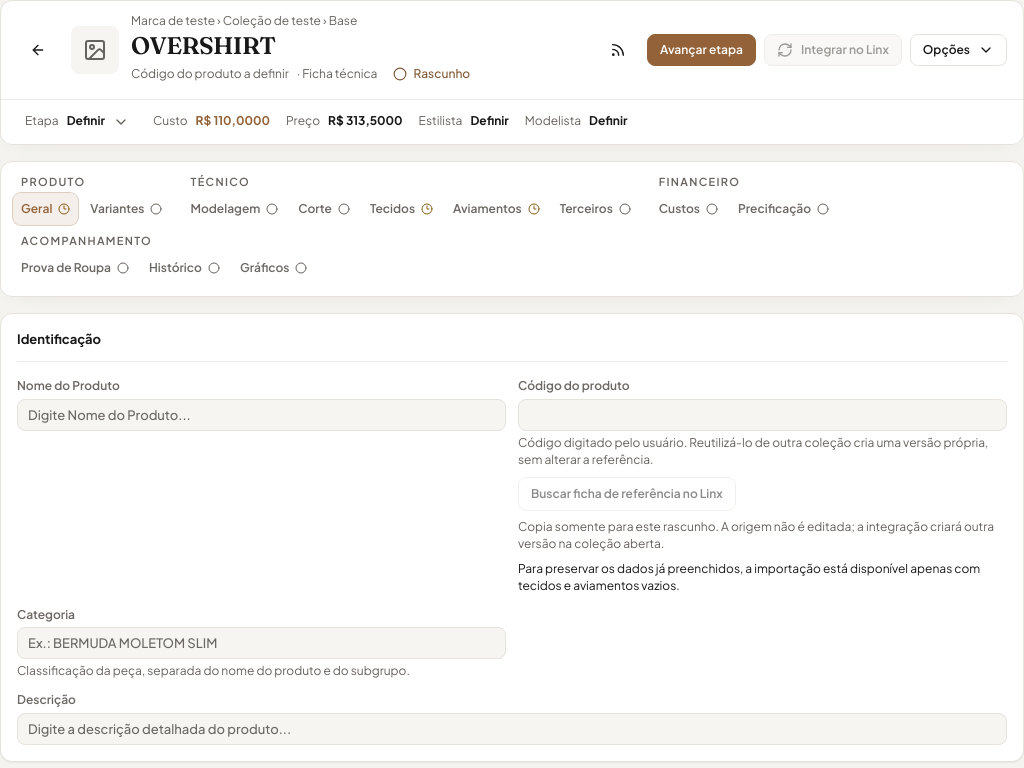
Test: Alterações pendentes para o Linx › abre a movimentação pelo resumo Etapa e detecta o avanço automático
This screenshot has width=1024, height=768.
Click the button with aria-label "Entregar / alterar etapa" at (77, 122), box x1=17 y1=106 x2=137 y2=138
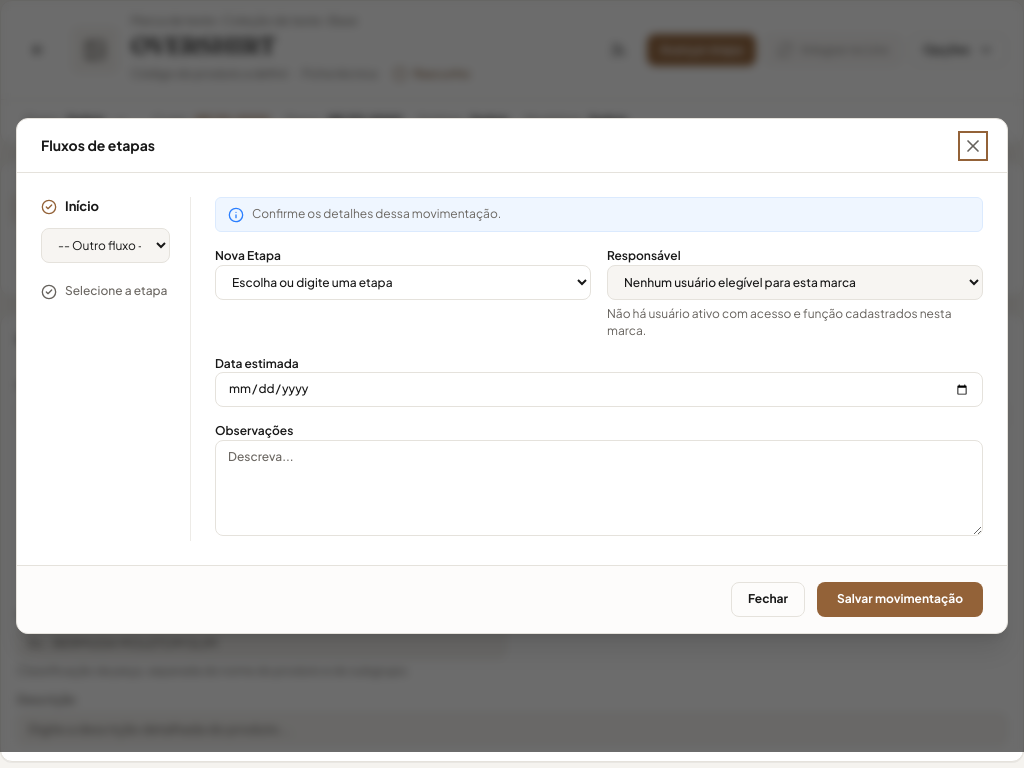
expect the dialog "Fluxos de etapas" is shown: met
expect the dropdown labelled "Nova Etapa" is shown: met, box x1=215 y1=265 x2=591 y2=300
Click the button "Fechar" at (768, 599), box x1=731 y1=582 x2=805 y2=617
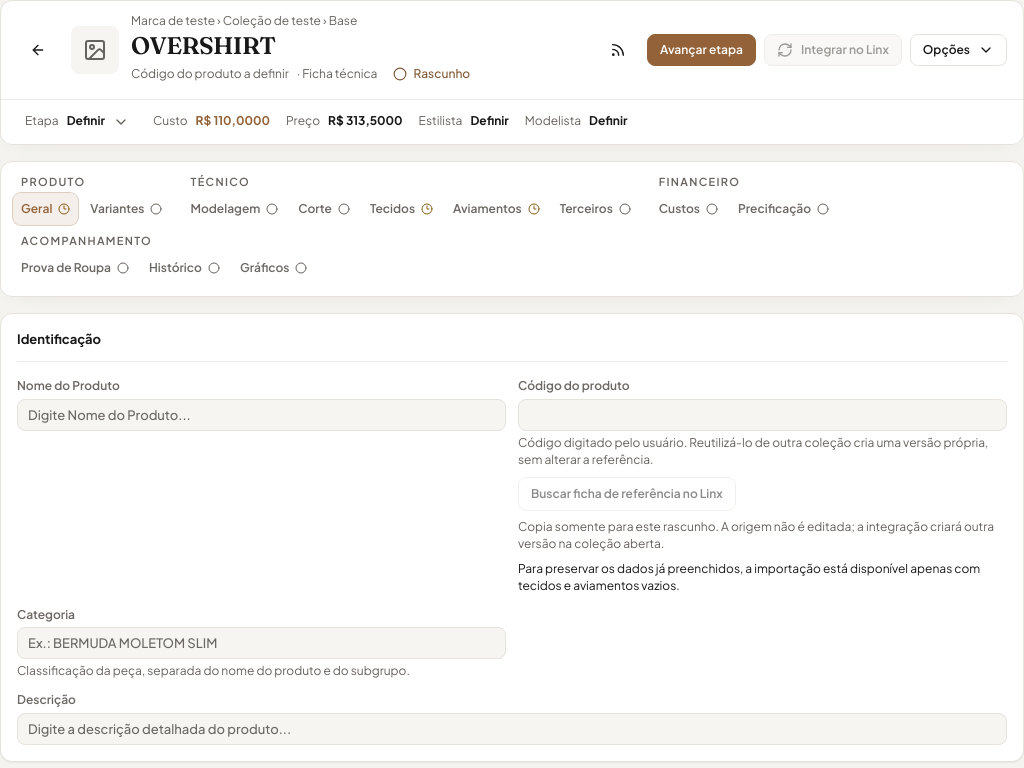
Click the button "Avançar etapa" at (702, 50), box x1=647 y1=34 x2=756 y2=66
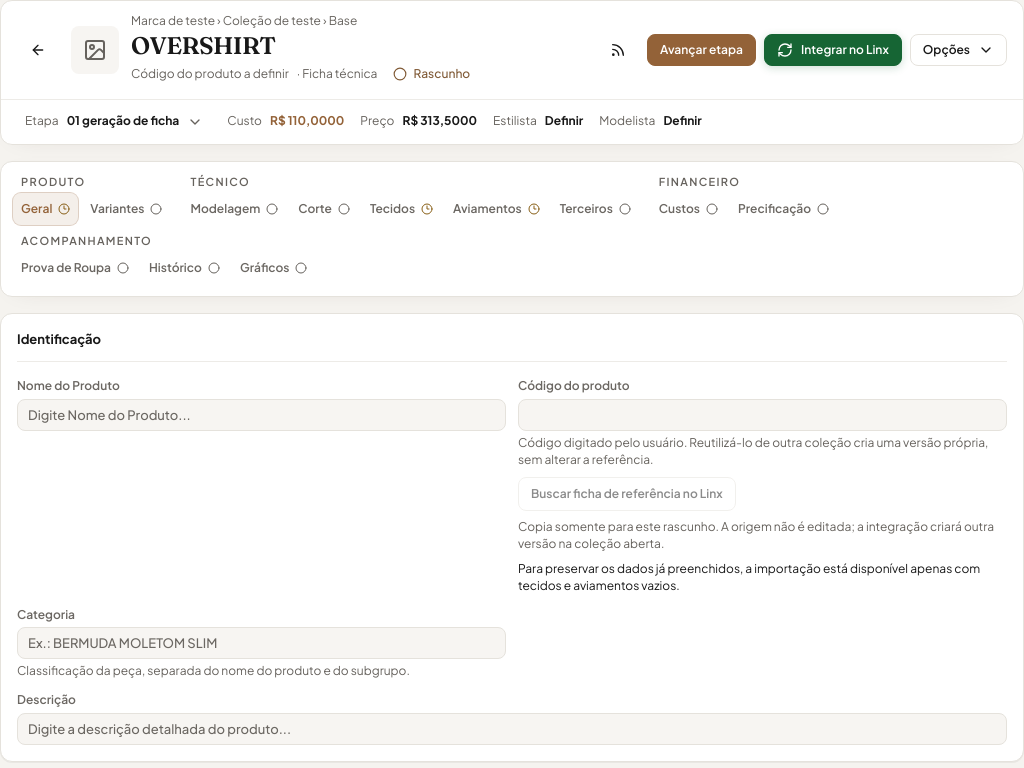
expect the button "Integrar no Linx" is enabled: met, box x1=764 y1=34 x2=902 y2=66
